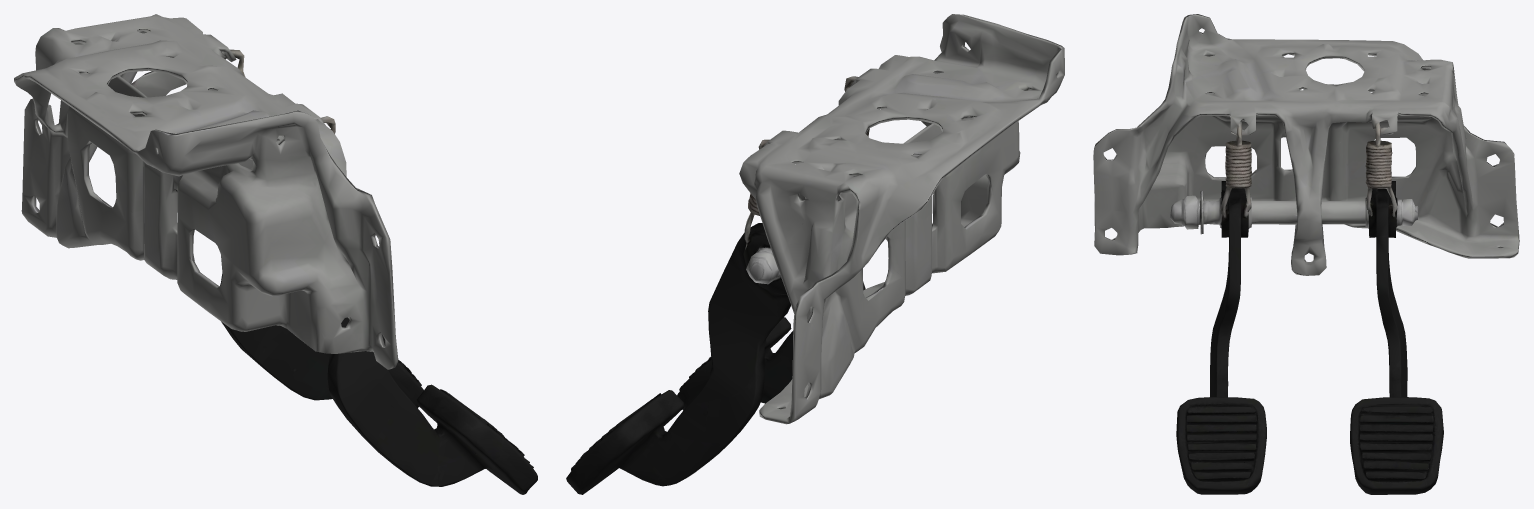
File: brake-clutch-pedal.glb
3 views of the same model, side by side, from view 1: azimuth 30°, elevation 25°; view 2: azimuth 150°, elevation 25°; view 3: azimuth 270°, elevation 25° (orthographic). The views are drawn at different scales.
Parts seen in each view (by area): view 1: tripo_node_644fa4c4-bf37-4d6e-a121-aa98ac56e663; view 2: tripo_node_644fa4c4-bf37-4d6e-a121-aa98ac56e663; view 3: tripo_node_644fa4c4-bf37-4d6e-a121-aa98ac56e663.
Part boxes in pixels (bbox=[...]): tripo_node_644fa4c4-bf37-4d6e-a121-aa98ac56e663: bbox=[14, 14, 537, 494]; tripo_node_644fa4c4-bf37-4d6e-a121-aa98ac56e663: bbox=[566, 14, 1064, 494]; tripo_node_644fa4c4-bf37-4d6e-a121-aa98ac56e663: bbox=[1093, 14, 1519, 494].
Bounding box in the file's own units: 0.7895 × 0.8947 × 1.
Materials: 1 (1 with a texture image).
